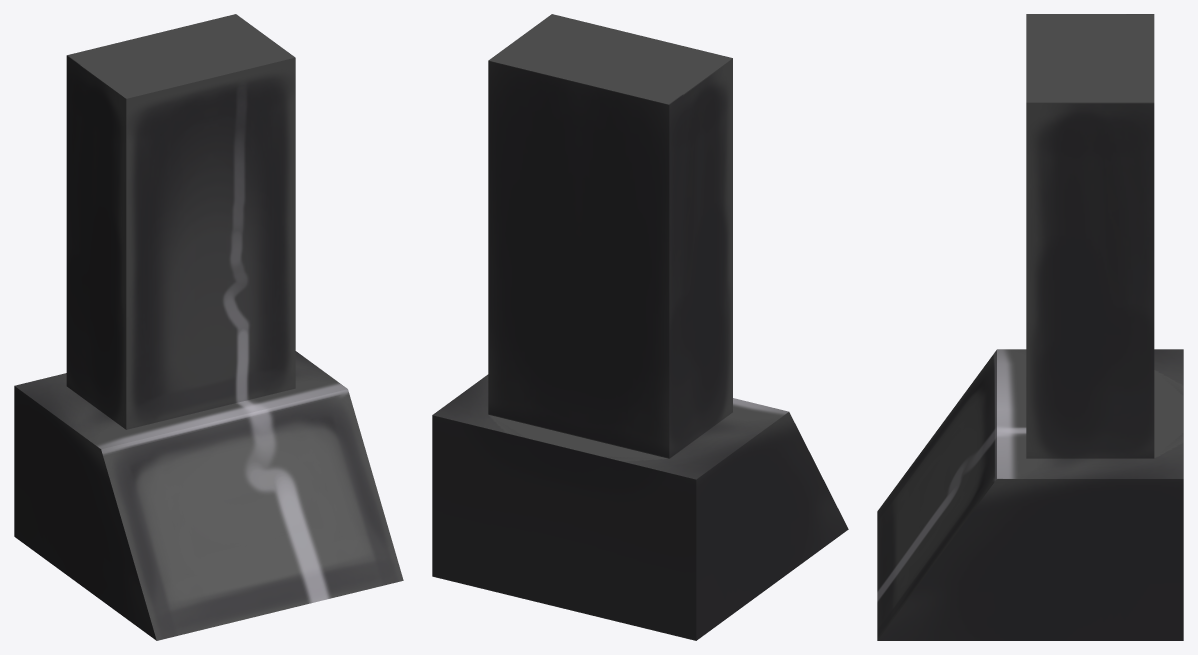
The model's file is KitchenStove_Hood.fbx.
3 renders of one model, left to right at view 1: azimuth 30°, elevation 25°; view 2: azimuth 150°, elevation 25°; view 3: azimuth 270°, elevation 25°, orthographic. The views are drawn at different scales.
Visible parts, largest first — view 1: KitchenStove_Hood; view 2: KitchenStove_Hood; view 3: KitchenStove_Hood.
Part boxes in pixels (x1,y1,x2,y2): KitchenStove_Hood: [14, 14, 403, 640]; KitchenStove_Hood: [432, 14, 848, 640]; KitchenStove_Hood: [877, 14, 1183, 640].
Size of the model in its own units: 74.84 by 140 by 74.84.
Materials: 1 (1 with a texture image).
